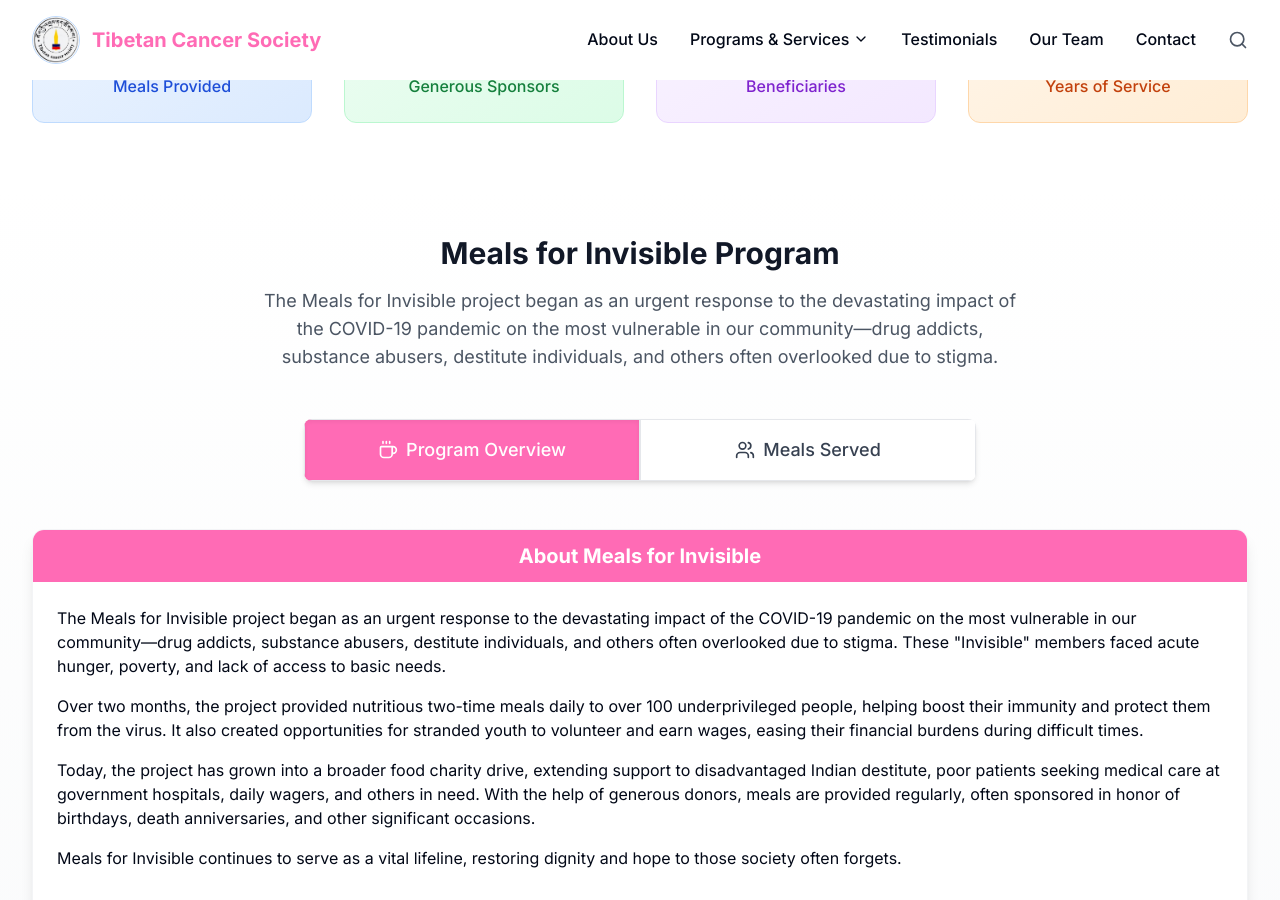
Test: Page smoke tests › renders Meals for Invisible and switches tabs
(page scrolled)
Click the button "Meals Served" at [808, 450], box [640,419,976,481]
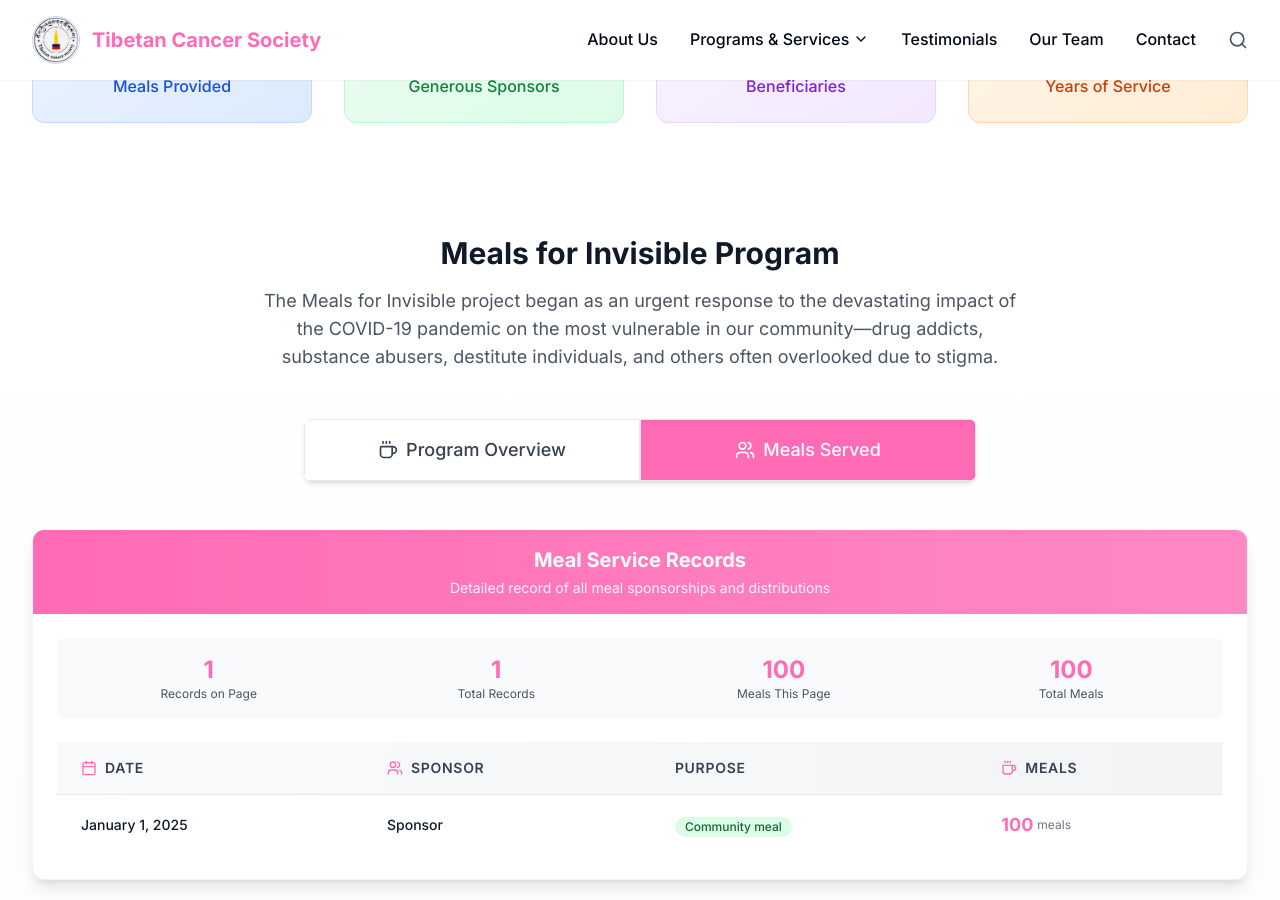
Result: the heading "Meal Service Records" is shown at [534,548,746,572]
